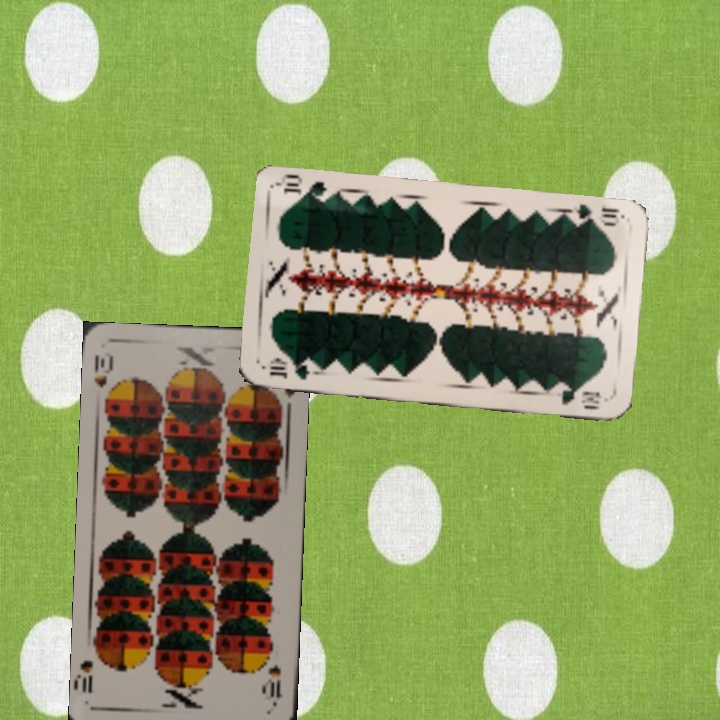G10: (566, 200, 626, 229), (265, 356, 313, 383)
S10: (90, 348, 116, 406), (262, 661, 285, 701)
